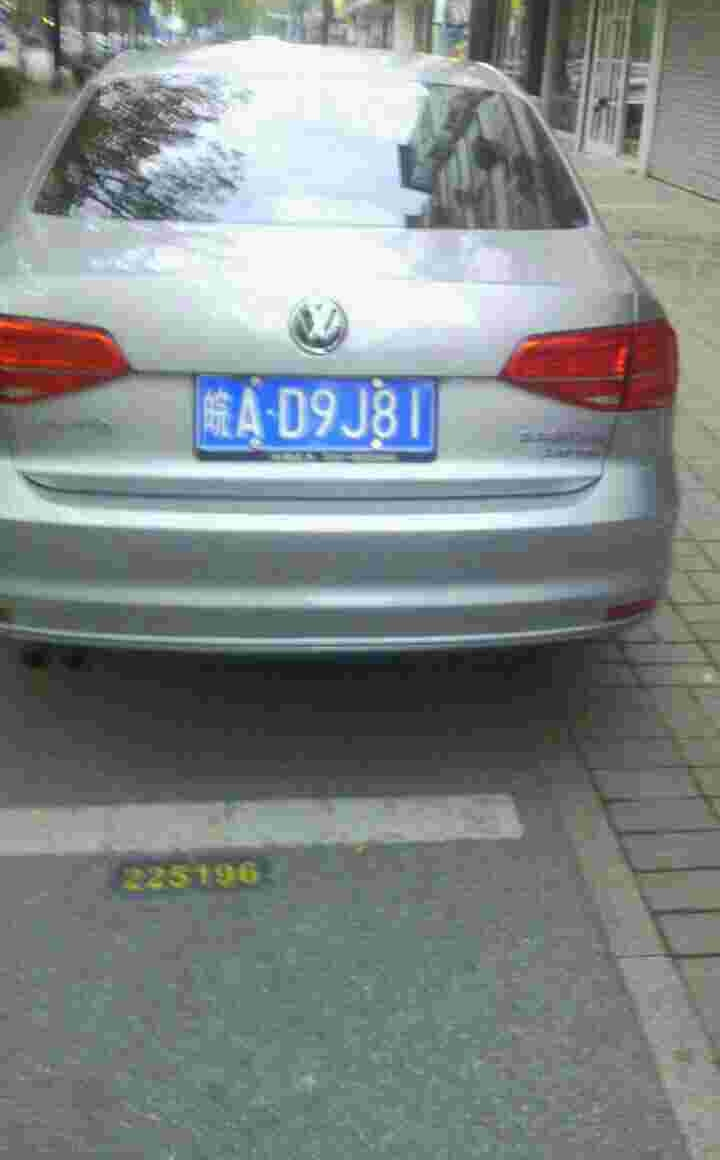license_plate: (206, 374, 430, 454)
